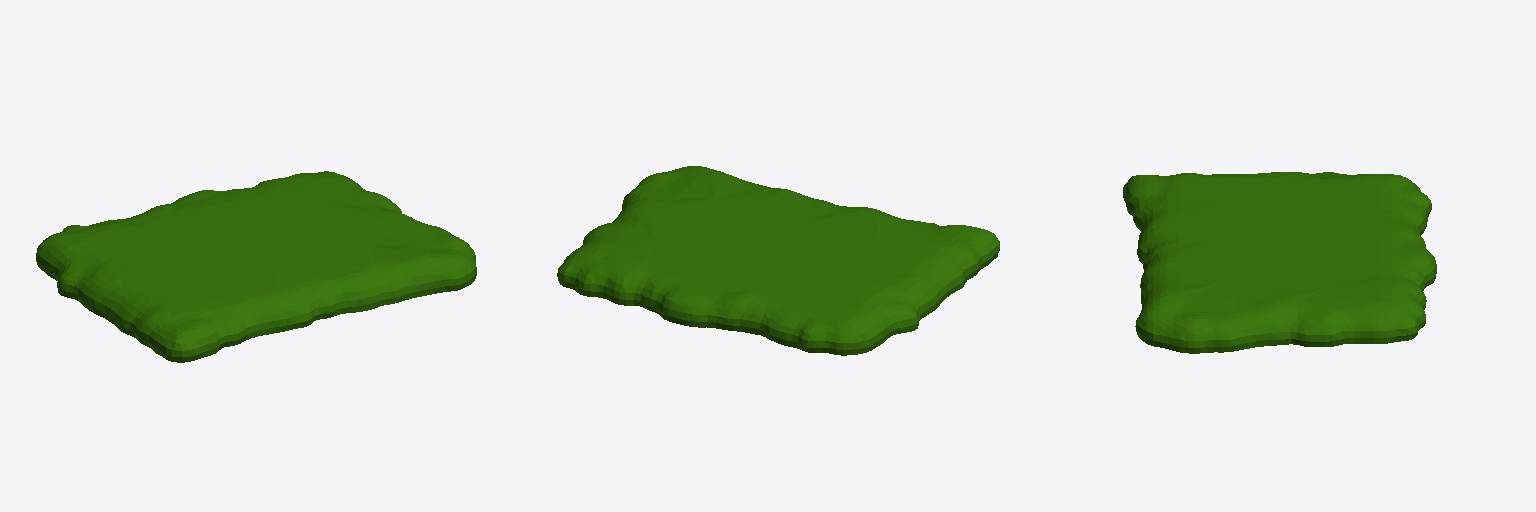
The model's file is arena_platform.obj.
The picture shows the model from 3 angles: view 1: azimuth 30°, elevation 25°; view 2: azimuth 150°, elevation 25°; view 3: azimuth 270°, elevation 25°; orthographic projection.
Parts seen in each view (by area): view 1: Mball.066_Mesh; view 2: Mball.066_Mesh; view 3: Mball.066_Mesh.
Boxes of the visible parts, box(x1,y1,x2,y2) form: Mball.066_Mesh: box(36, 171, 476, 362); Mball.066_Mesh: box(557, 166, 999, 355); Mball.066_Mesh: box(1123, 172, 1436, 353).
Bounding box in the file's own units: 17.41 × 1.41 × 13.72.